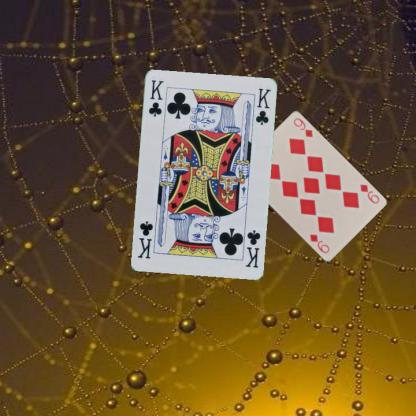9d: (357, 182, 380, 204)
Kc: (242, 227, 261, 269), (146, 77, 164, 118)
